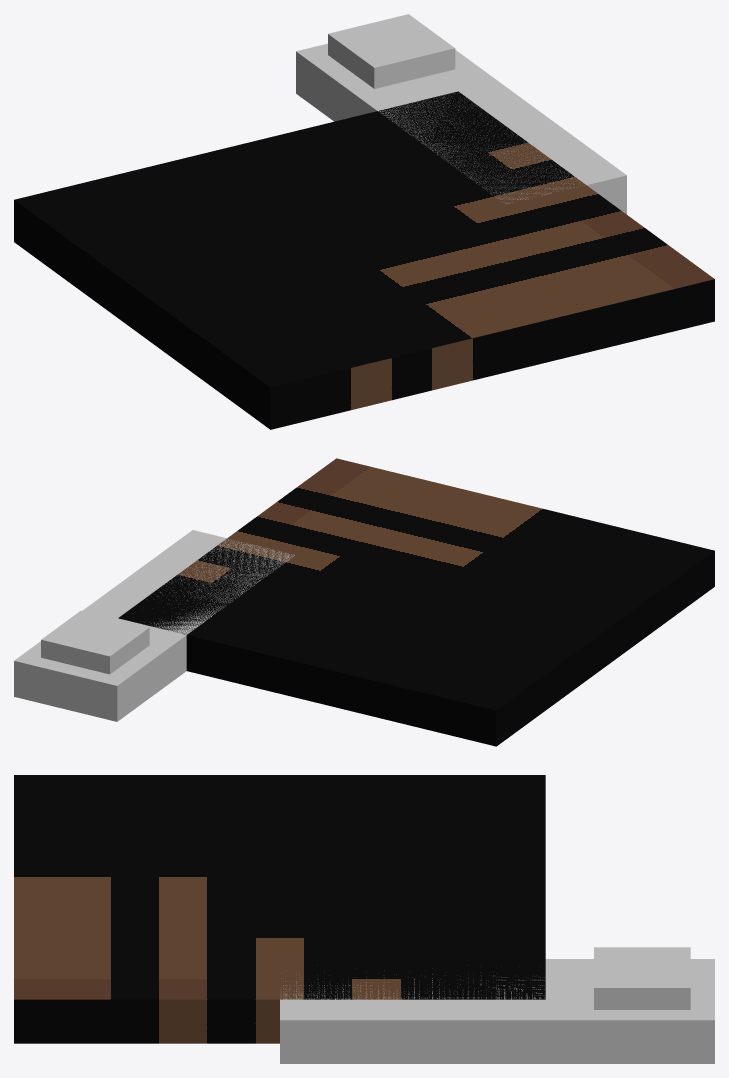
Rendered from electrostatic_repeller.obj.
3 renders of one model, top to bottom at view 1: azimuth 30°, elevation 25°; view 2: azimuth 150°, elevation 25°; view 3: azimuth 270°, elevation 25°, orthographic. The views are drawn at different scales.
Visible parts, largest first — view 1: cube; view 2: cube; view 3: cube.
Boxes of the visible parts, x1=… form: cube: x1=14, y1=14, x2=714, y2=429; cube: x1=14, y1=458, x2=714, y2=746; cube: x1=14, y1=775, x2=714, y2=1063.
Size of the model in its own units: 0.75 by 0.0938 by 0.9062.
